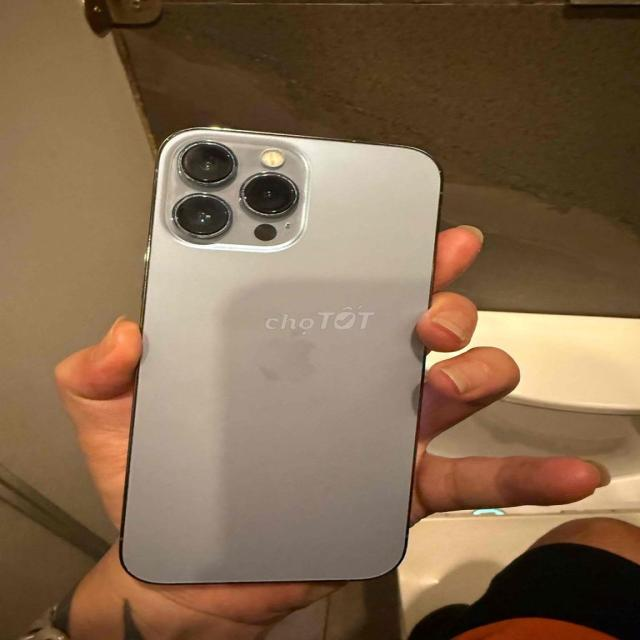gen_12_13: (107, 120, 454, 606)
